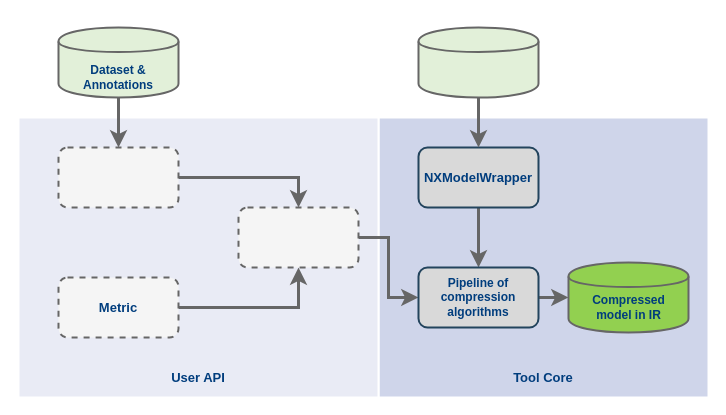
Some shapes in this 726 by 415 pixel diagram are drawn without their labels. Each missing label, with the centre of its shape:
DataLoader: pixel 118 177
Engine for model inference: pixel 298 237
Full precision model in IR: pixel 478 62
